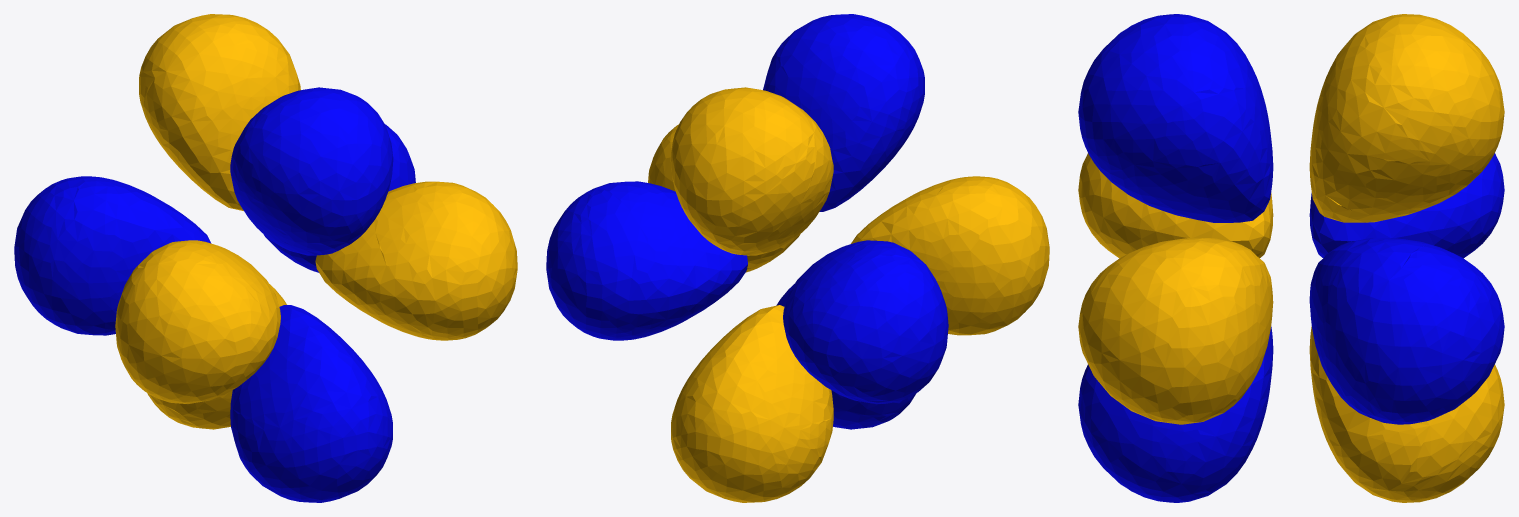
3 views of the same model, side by side, from view 1: azimuth 30°, elevation 25°; view 2: azimuth 150°, elevation 25°; view 3: azimuth 270°, elevation 25° (orthographic). The views are drawn at different scales.
Bounding box in the file's own units: 22.58 × 22.58 × 18.63.
